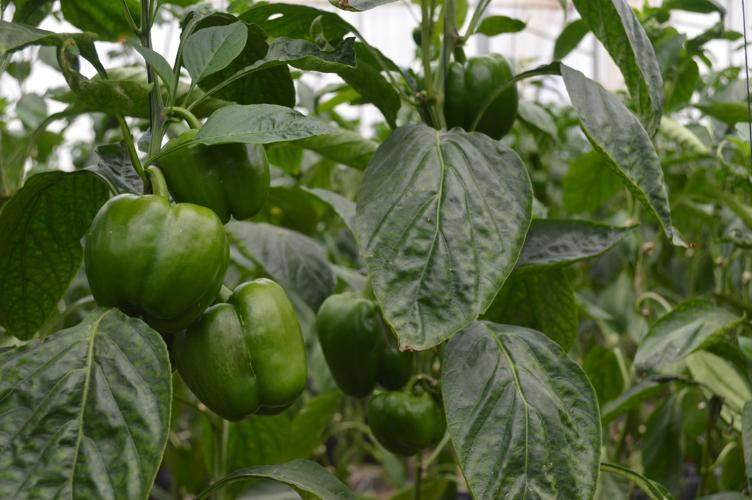BellPepper: (181, 281, 315, 417), (82, 193, 222, 312), (311, 280, 432, 394), (150, 126, 280, 212), (421, 49, 517, 130), (361, 391, 464, 461)
